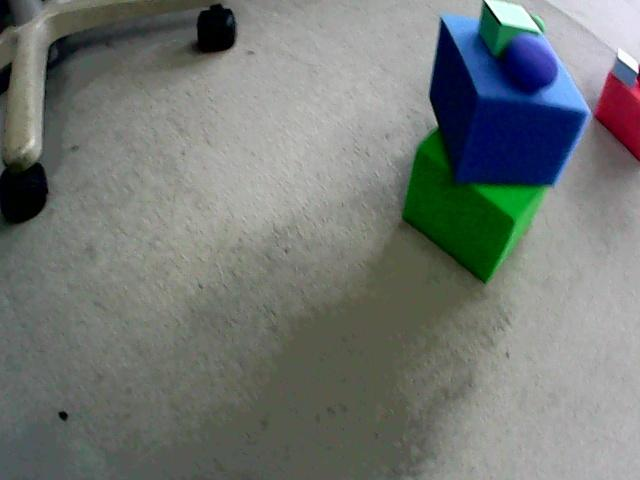blue_block: (430, 15, 590, 185), (612, 49, 638, 87), (612, 61, 637, 87)
red_block: (594, 72, 639, 159)
